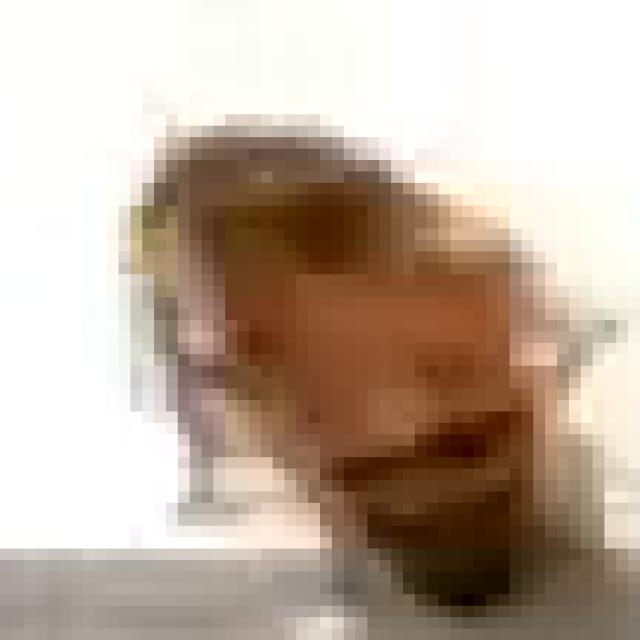honeybee: (95, 127, 548, 607)
